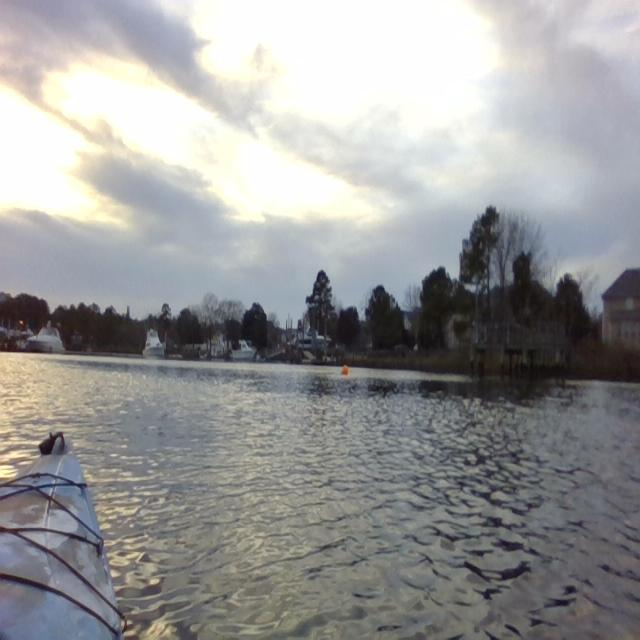Buoy: (339, 363, 349, 376)
